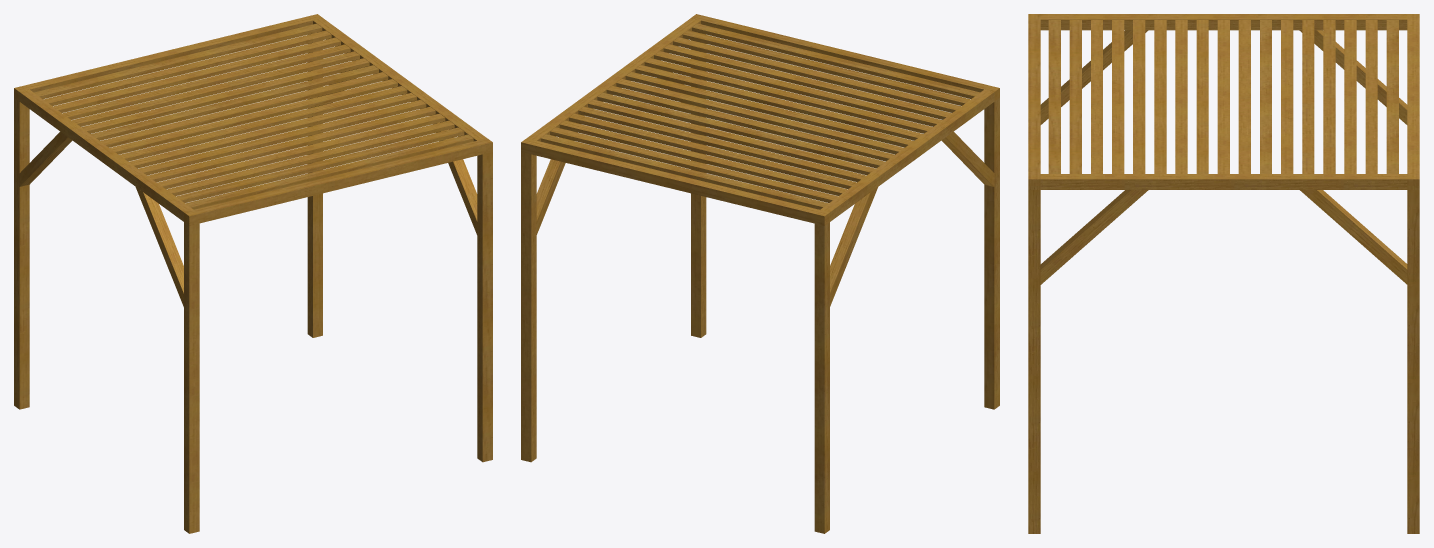
Rendered from sh-contrib-pergola.glb.
3 renders of one model, left to right at view 1: azimuth 30°, elevation 25°; view 2: azimuth 150°, elevation 25°; view 3: azimuth 270°, elevation 25°, orthographic. The views are drawn at different scales.
Visible parts, largest first — view 1: pergola; view 2: pergola; view 3: pergola.
Boxes of the visible parts, left/top/right/bottom form: pergola: left=14, top=14, right=492, bottom=533; pergola: left=521, top=14, right=999, bottom=533; pergola: left=1028, top=14, right=1419, bottom=533.
Size of the model in its own units: 1 by 1 by 1.
Materials: 1 (1 with a texture image).
